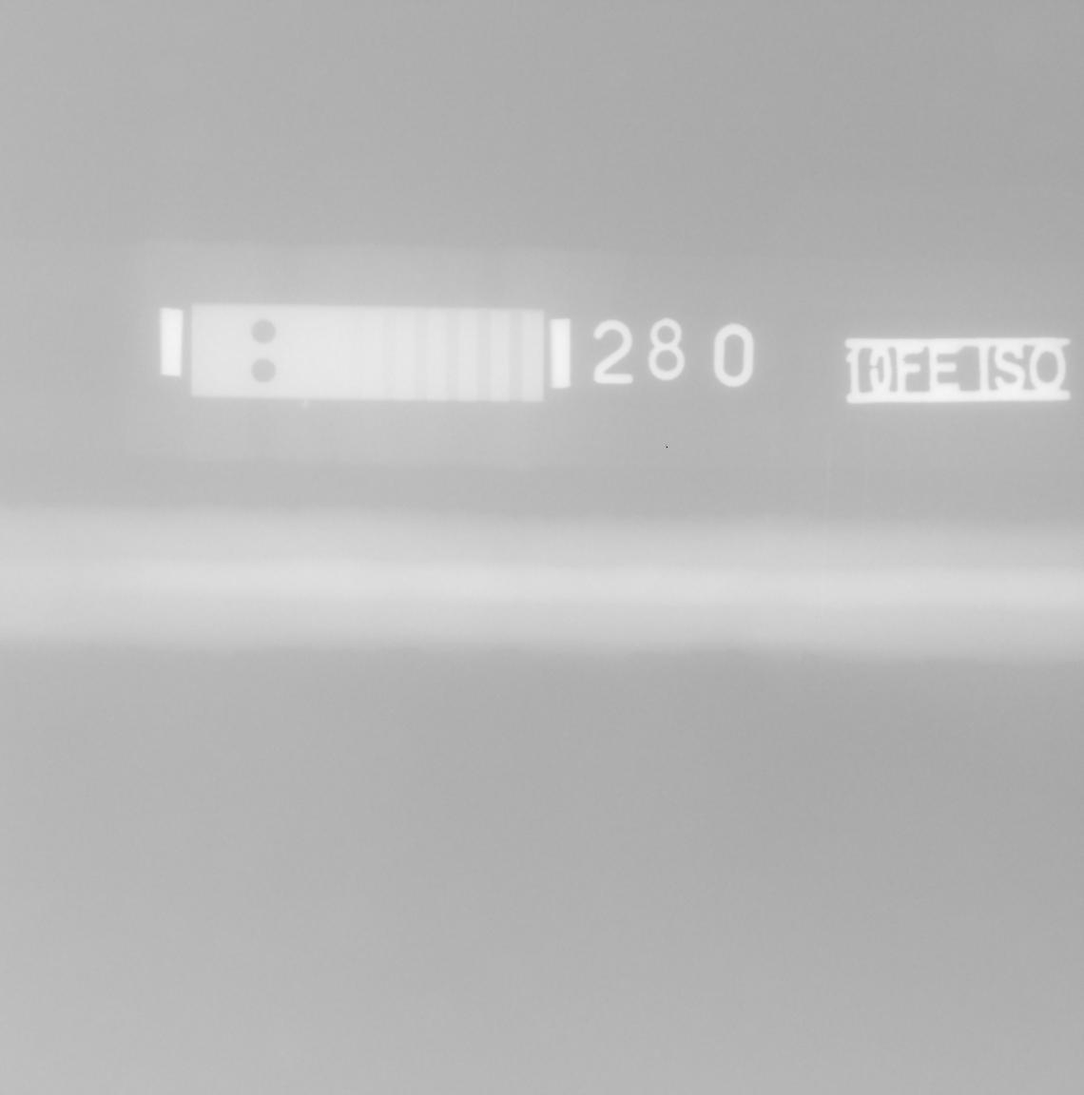Pore/Porosity: (208, 569, 214, 574)
Reference Standard 2: (190, 304, 544, 403)
